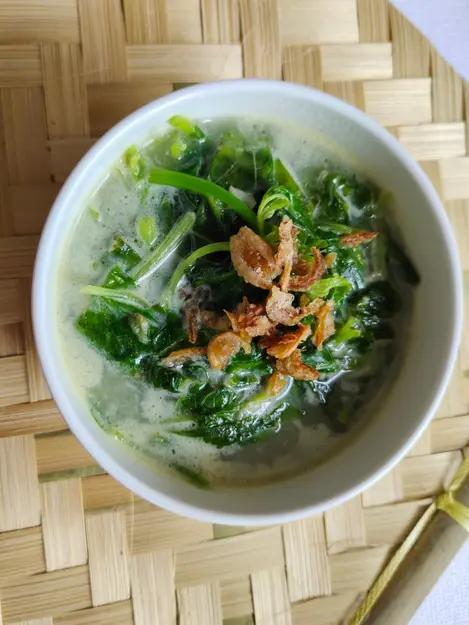buah_sayur_lainnya: (150, 156, 352, 434)
